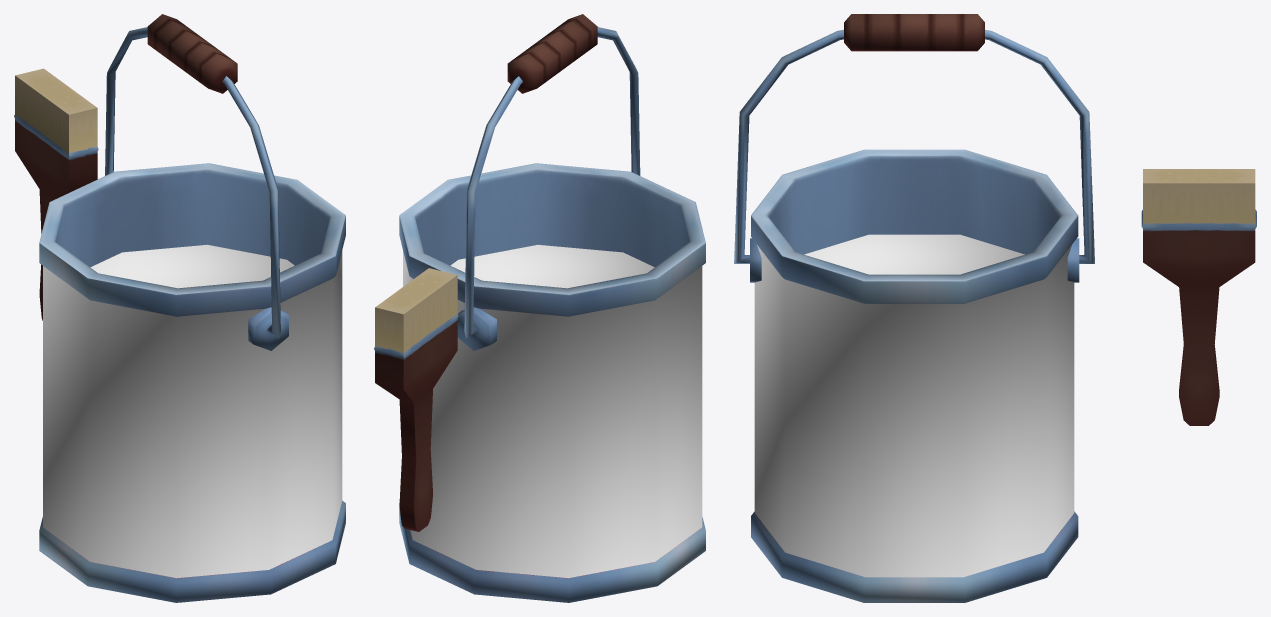
The model's file is Paint.fbx.
3 renders of one model, left to right at view 1: azimuth 30°, elevation 25°; view 2: azimuth 150°, elevation 25°; view 3: azimuth 270°, elevation 25°, orthographic. The views are drawn at different scales.
Visible parts, largest first — view 1: Paint bucket, Brush; view 2: Paint bucket, Brush; view 3: Paint bucket, Brush.
Part boxes in pixels (x1,y1,x2,y2): Paint bucket: (39, 14, 345, 602); Brush: (14, 68, 98, 320); Paint bucket: (399, 14, 705, 602); Brush: (374, 268, 458, 531); Paint bucket: (734, 14, 1094, 602); Brush: (1141, 169, 1256, 425).
Bounding box in the file's own units: 132 × 244 × 221.
